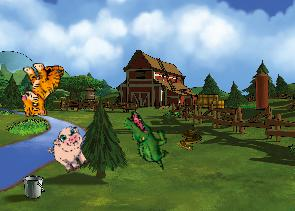crocodile: (112, 108, 181, 171)
pig: (43, 122, 97, 177)
tiger: (18, 60, 66, 117)
